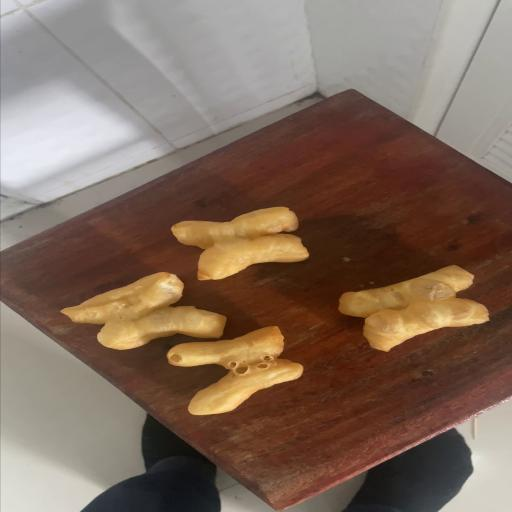street_golden_defect: (341, 265, 487, 350), (63, 273, 226, 348), (164, 328, 303, 413)
street_golden_good: (67, 273, 225, 348), (171, 208, 309, 279)
